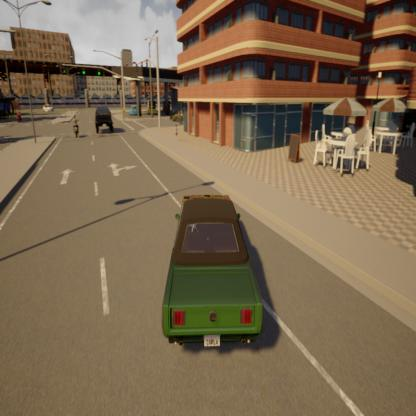Cars: (162, 193, 261, 352), (95, 106, 113, 135), (72, 112, 79, 140), (40, 102, 53, 114), (148, 98, 156, 115), (14, 108, 22, 124), (130, 102, 137, 118)
Pedestrian: (174, 122, 180, 140)
